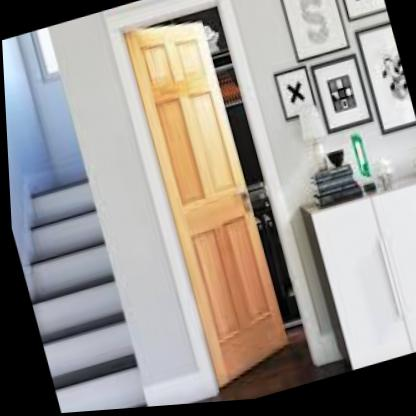Door: (121, 5, 311, 402)
